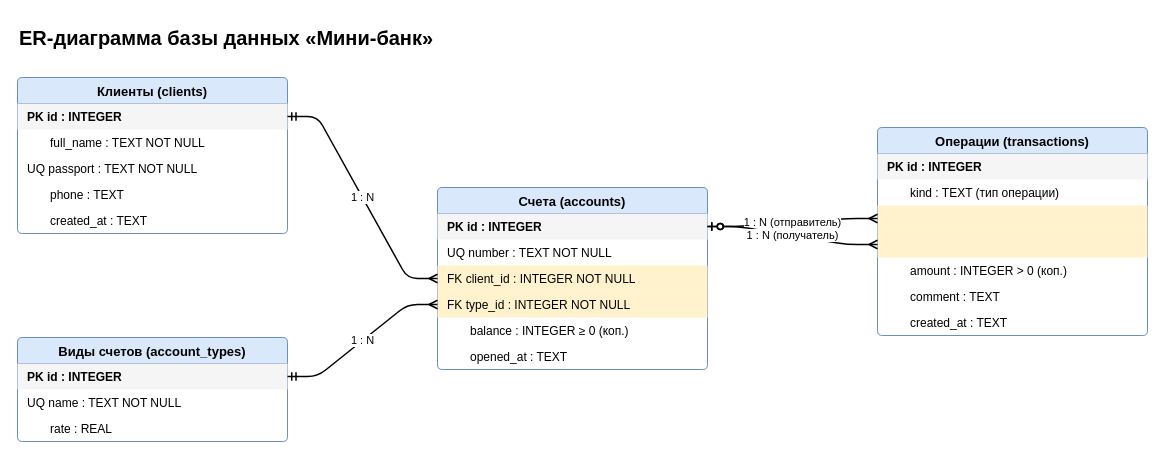
Image size: 1165x459. Some labels were removed from this diagram. Here are the shapes that lost their labels. From the top down, the centre of each, then its label:
the point at 1012,218: FK from_account_id : INTEGER NULL
the point at 1012,244: FK to_account_id : INTEGER NULL
